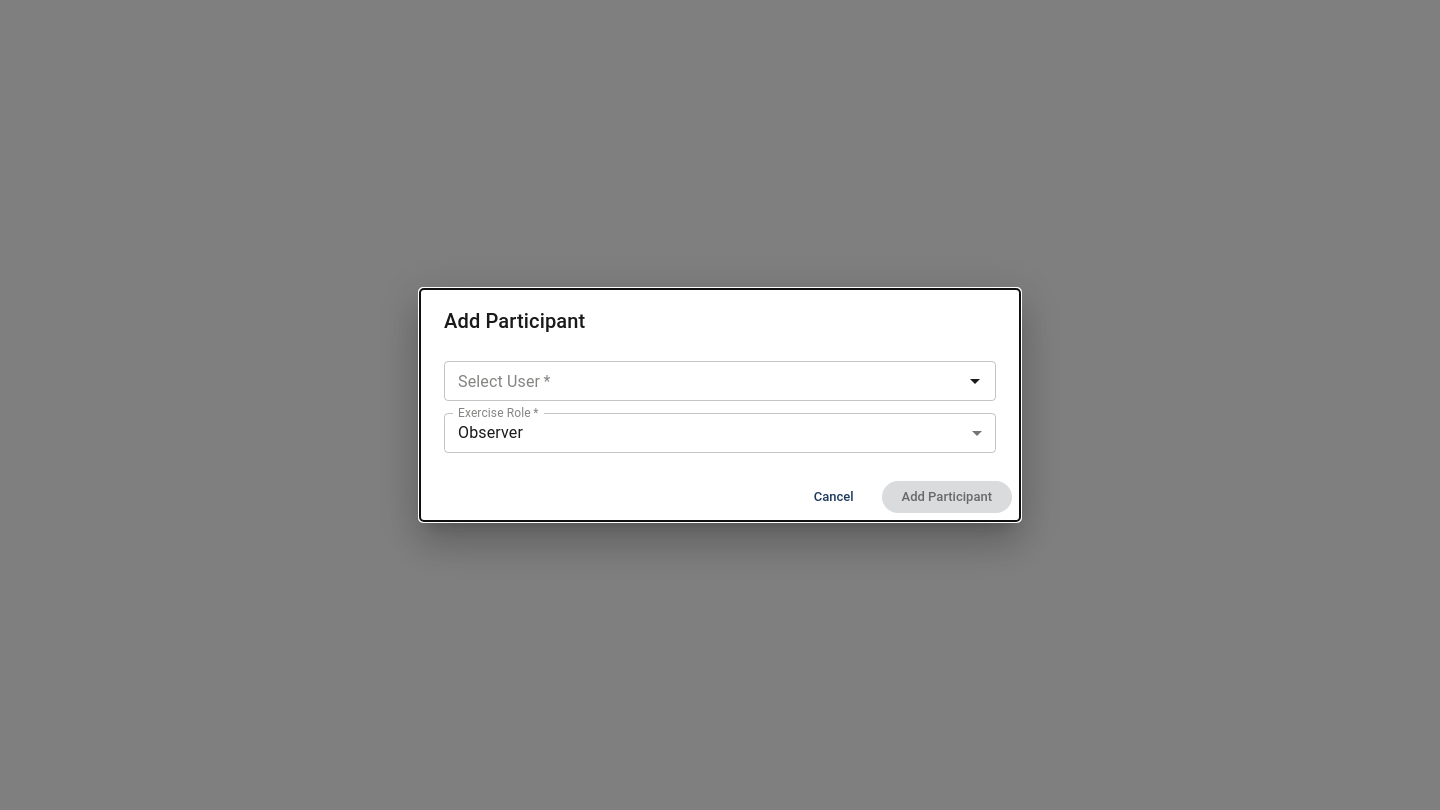
AddParticipantDialog › loads and displays users in autocomplete
The width and height of the screenshot is (1440, 810).
Click the dropdown labelled "Select User *": [704, 381] box [450,367,957,395]
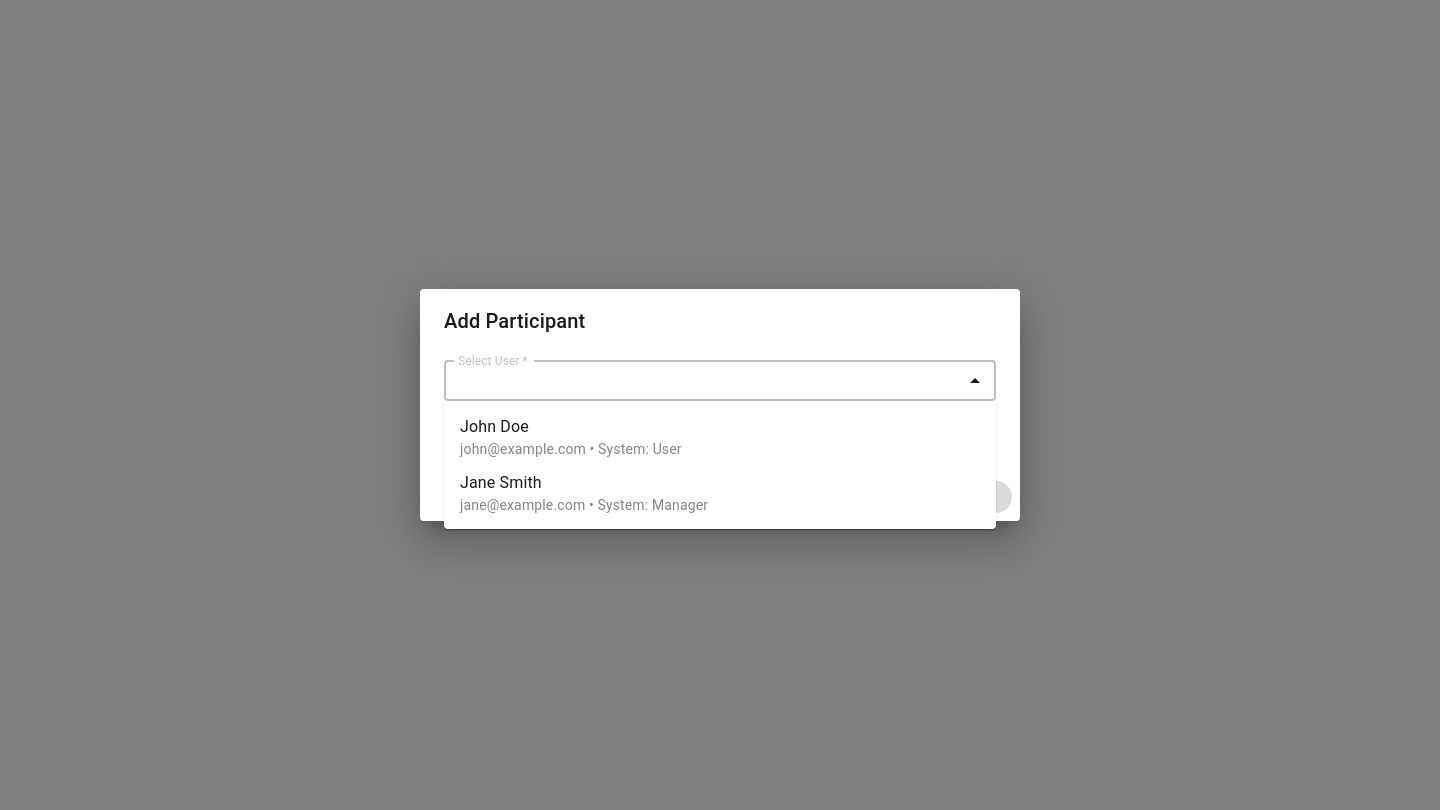
Result: the text "John Doe" is shown at [460,417,529,436]
Result: the text "Jane Smith" is shown at [460,473,542,492]
